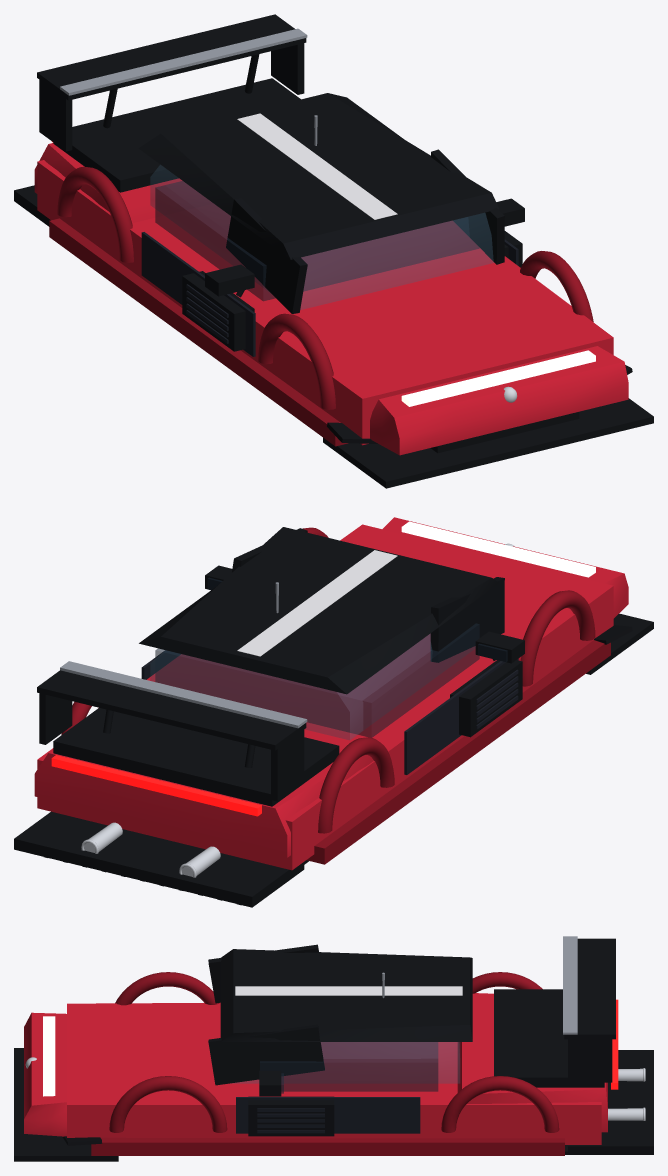
The model's file is hyper-gt.glb.
The picture shows the model from 3 angles, top to bottom: view 1: azimuth 30°, elevation 25°; view 2: azimuth 150°, elevation 25°; view 3: azimuth 270°, elevation 25°; orthographic projection. The views are drawn at different scales.
Parts seen in each view (by area): view 1: vector-gt-r; view 2: vector-gt-r; view 3: vector-gt-r.
Part boxes in pixels (left/top/right/bottom): vector-gt-r: left=14, top=14, right=653, bottom=488; vector-gt-r: left=14, top=517, right=653, bottom=907; vector-gt-r: left=14, top=936, right=653, bottom=1161.
Size of the model in its own units: 2.38 by 1.34 by 5.21.
